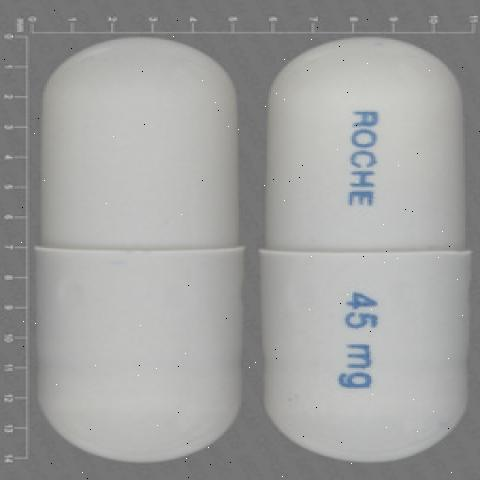Pill: (16, 24, 256, 468), (250, 19, 472, 473)
